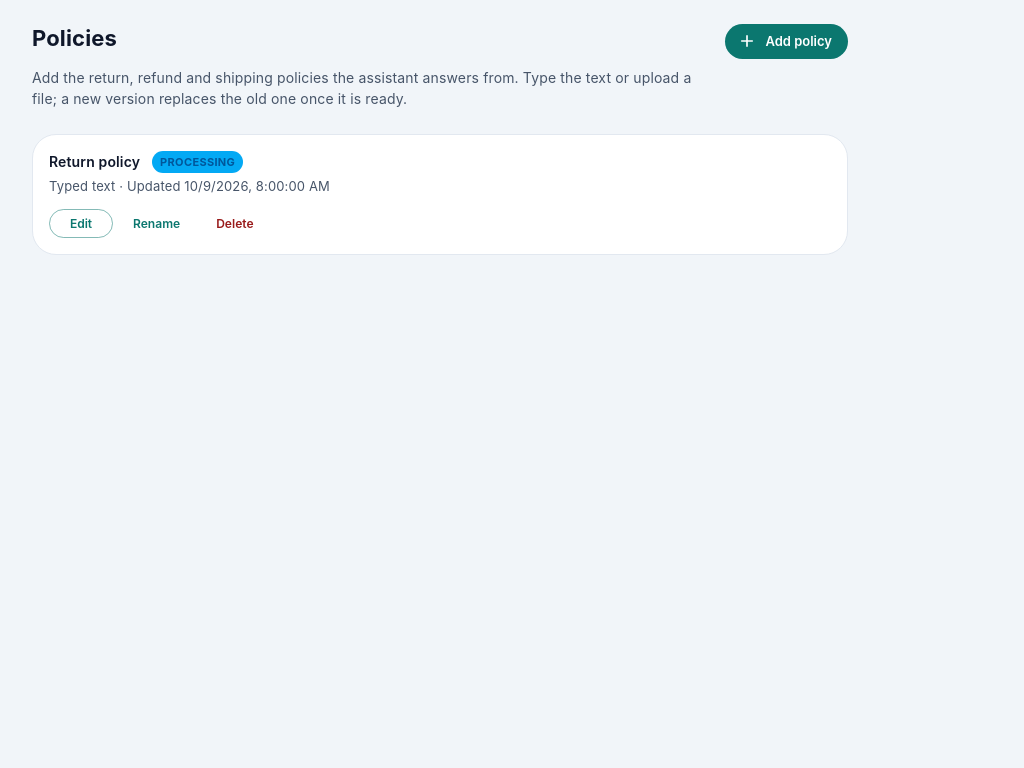
Scenario: PoliciesPage › renames a policy
Click the button with aria-label "Rename Return policy" at (157,223), box [117, 209, 196, 238]
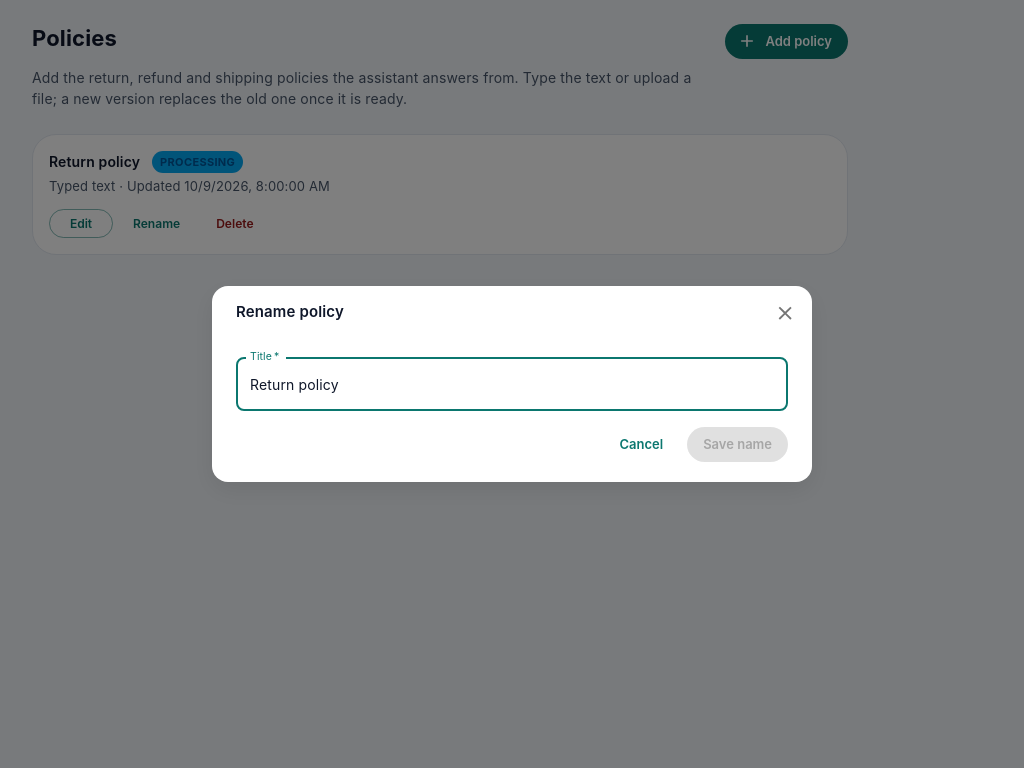
Result: the button "Save name" is disabled at [687, 427, 788, 462]
Replace the text in the field labelled "Title *" with "Refunds" at (512,384), box [236, 358, 788, 411]
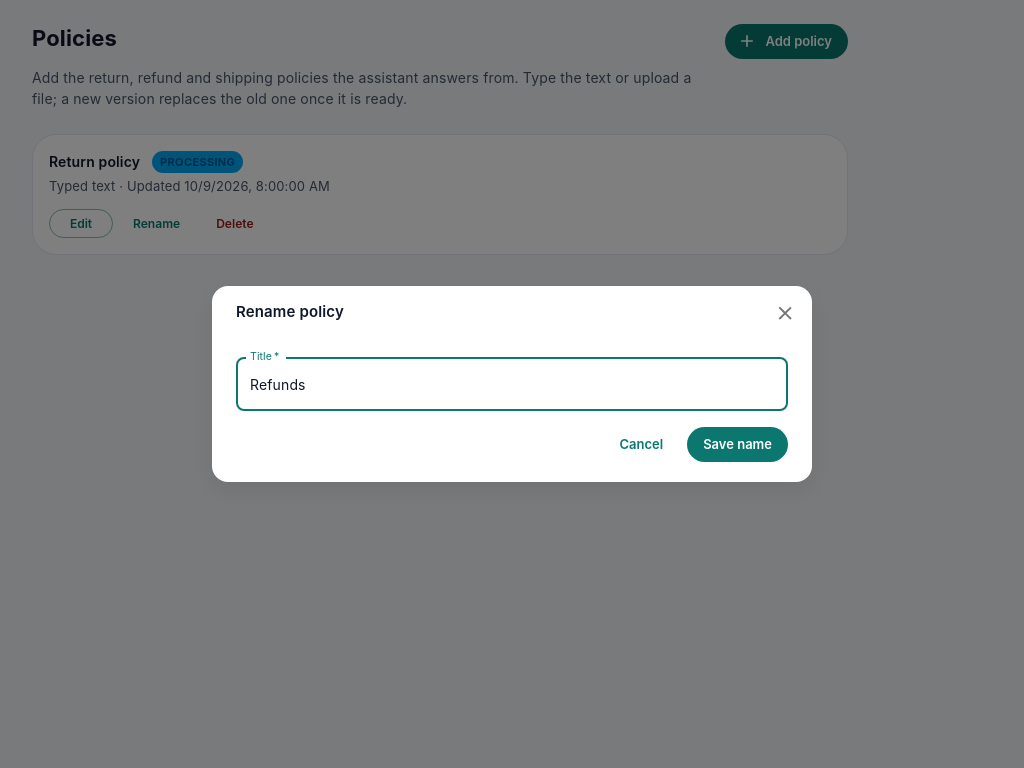
Click the button "Save name" at (738,444), box [687, 427, 788, 462]
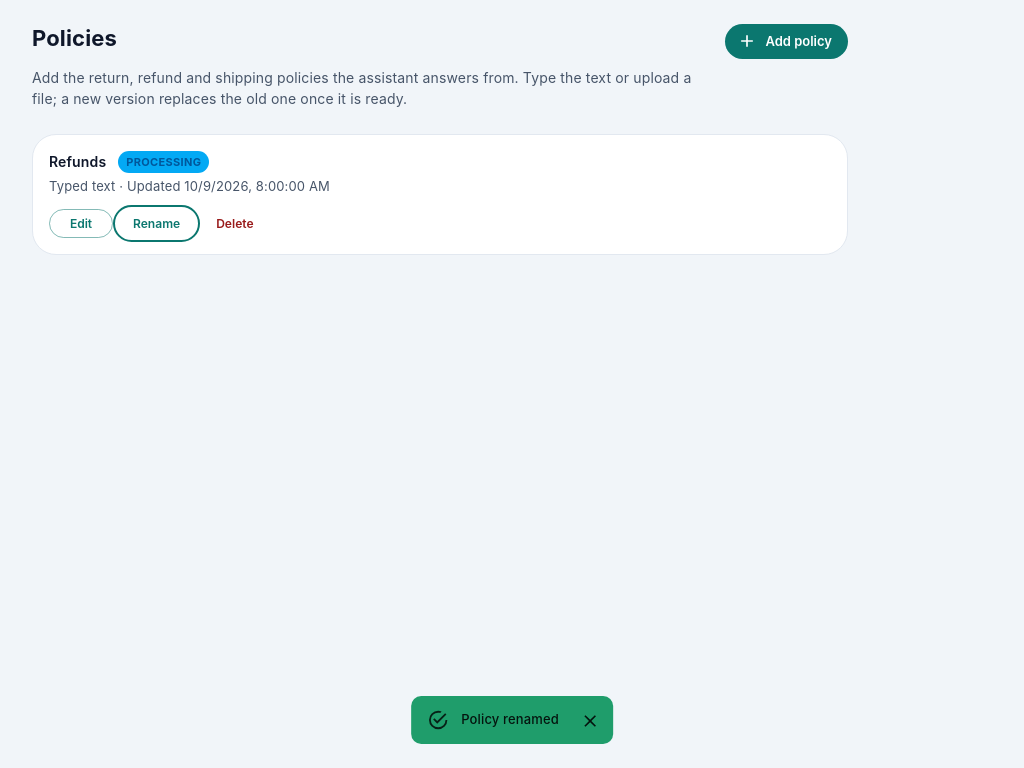
Result: the text "Policy renamed" is shown at [461, 711, 559, 727]
Result: the heading "Refunds" is shown at [49, 151, 106, 173]
